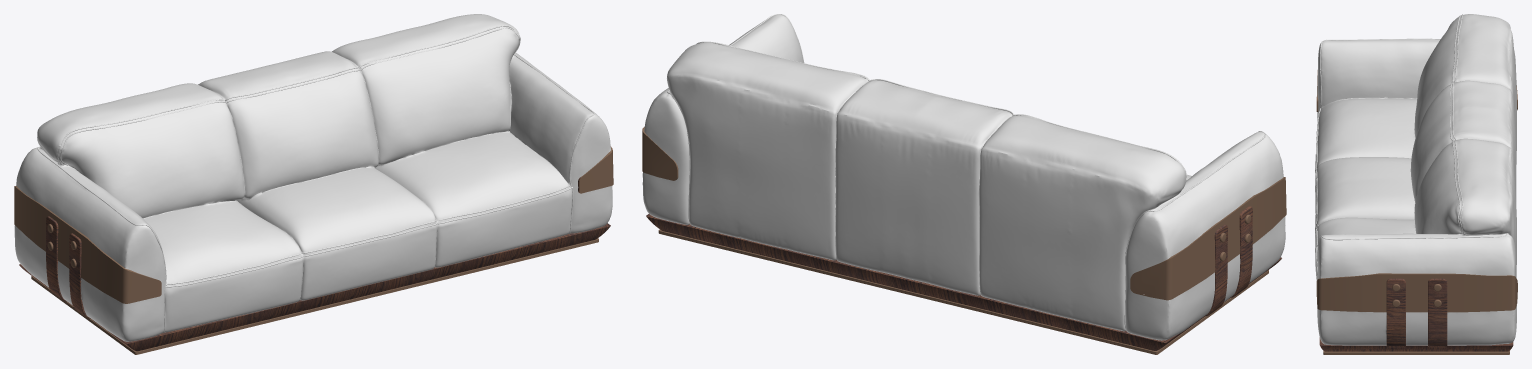
The model's file is St_Hilker_Dusseldorf_3_Seater.glb.
3 views of the same model, side by side, from view 1: azimuth 30°, elevation 25°; view 2: azimuth 150°, elevation 25°; view 3: azimuth 270°, elevation 25° (orthographic). The views are drawn at different scales.
Visible parts, largest first — view 1: Dusseldorf_Sofa; view 2: Dusseldorf_Sofa; view 3: Dusseldorf_Sofa.
Boxes of the visible parts, x1=… form: Dusseldorf_Sofa: x1=14, y1=14, x2=613, y2=354; Dusseldorf_Sofa: x1=642, y1=14, x2=1286, y2=354; Dusseldorf_Sofa: x1=1315, y1=14, x2=1517, y2=354.
Size of the model in its own units: 2.79 by 0.8879 by 1.09.
Materials: 4 (1 with a texture image).
